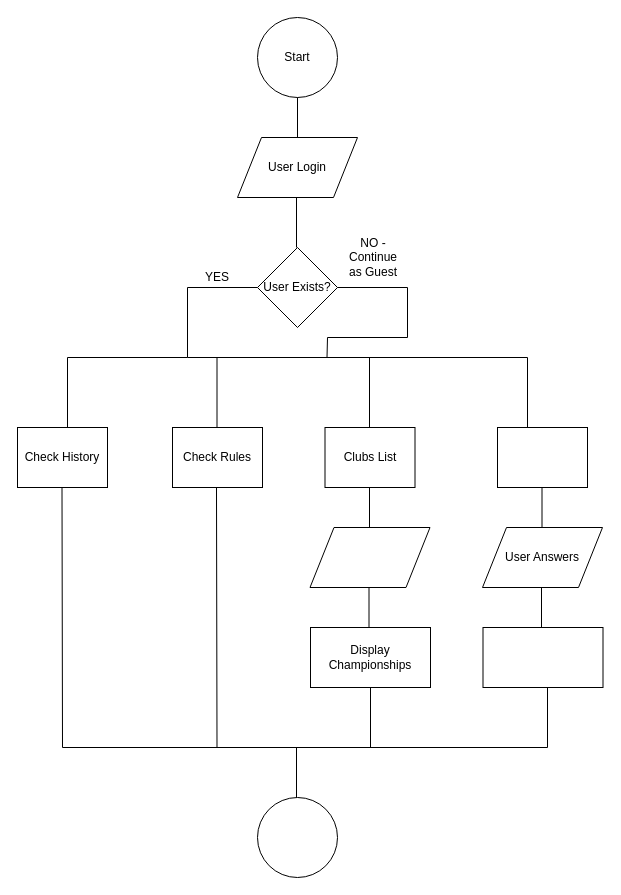
The diagram is 621 pixels wide and 895 high, and some of its shapes have lost their labels. The shapes that lost their labels are listed below. From the top down, each one's centre as x and y in pixels, then its label:
At (x=542, y=457): "Take Quiz".
At (x=369, y=557): "Enter club name".
At (x=542, y=657): "Display Quiz score".
At (x=297, y=837): "End".
